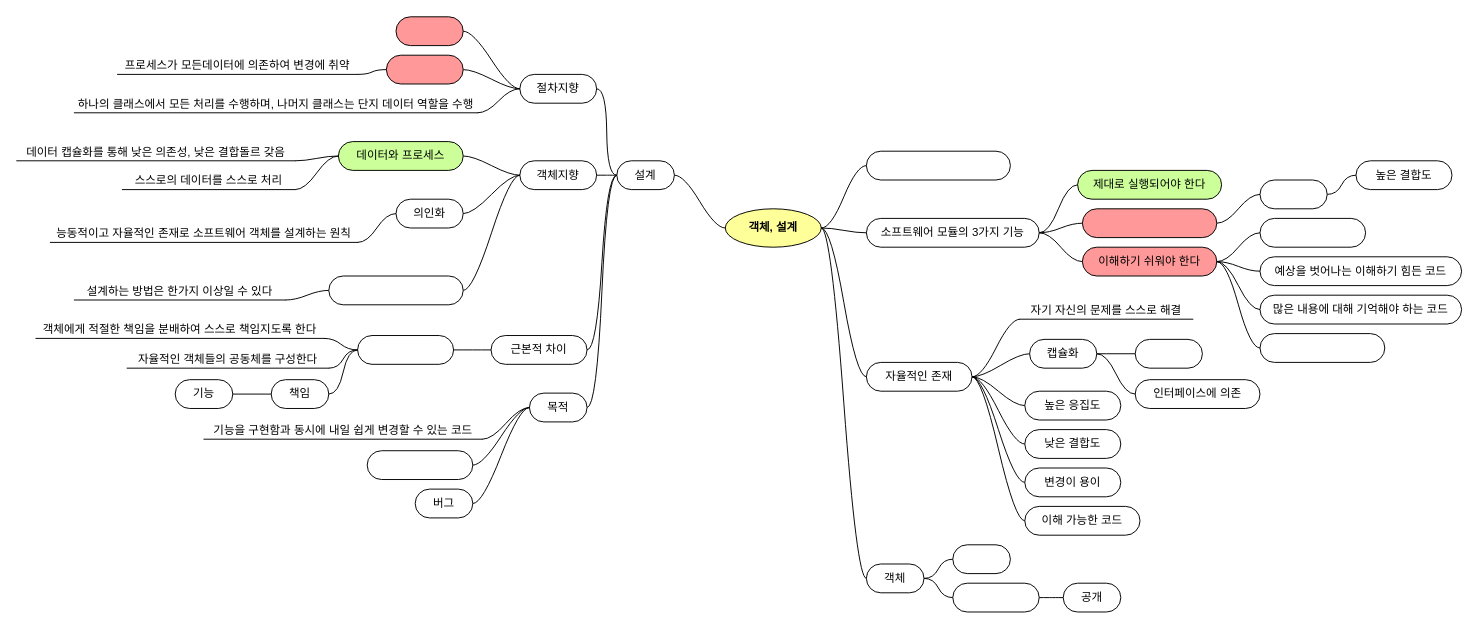
This 1478x629 diagram has some shape labels left out. The centre of each missing label's shape, as x and y in pixels:
"구현" goes at (x=981, y=559).
"데이터" goes at (x=429, y=31).
"메시지" goes at (x=1168, y=353).
"변경에 용이해야 한다" goes at (x=1149, y=223).
"수동적인 존재" goes at (x=1312, y=232).
"요구사항 변경" goes at (x=419, y=465).
"의사소통의 어려움" goes at (x=1322, y=347).
"의존성" goes at (x=1293, y=194).
"인터페이스" goes at (x=995, y=597).
"책임의 이동" goes at (x=405, y=349).
"트레이드오프의 산물" goes at (x=395, y=290).
"티켓 판매 애플리케이션" goes at (x=937, y=165).
"프로세스" goes at (x=424, y=69).
